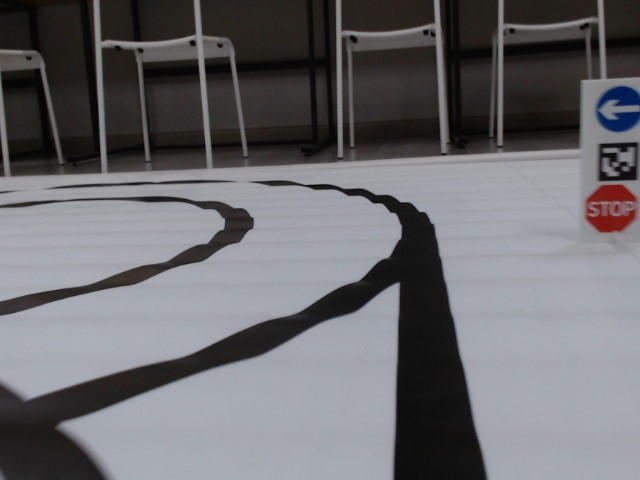Stop: (587, 182, 639, 234)
